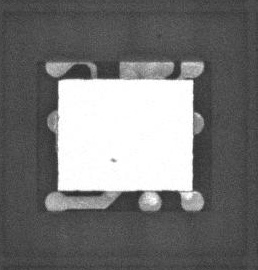DIE_INK: (103, 164, 113, 171)
